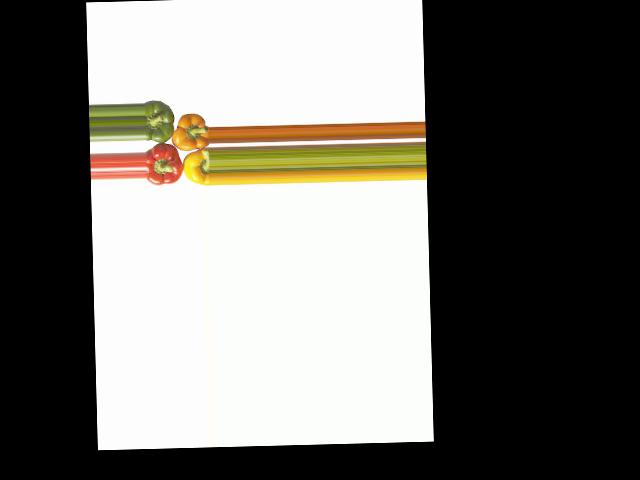bell_pepper: (180, 145, 211, 187)
